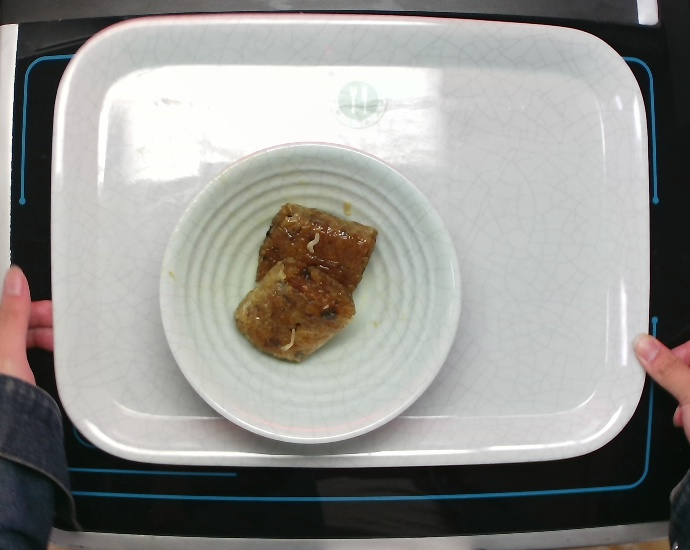JYsf-Xiao_Tang_Wan: (156, 140, 464, 446)
